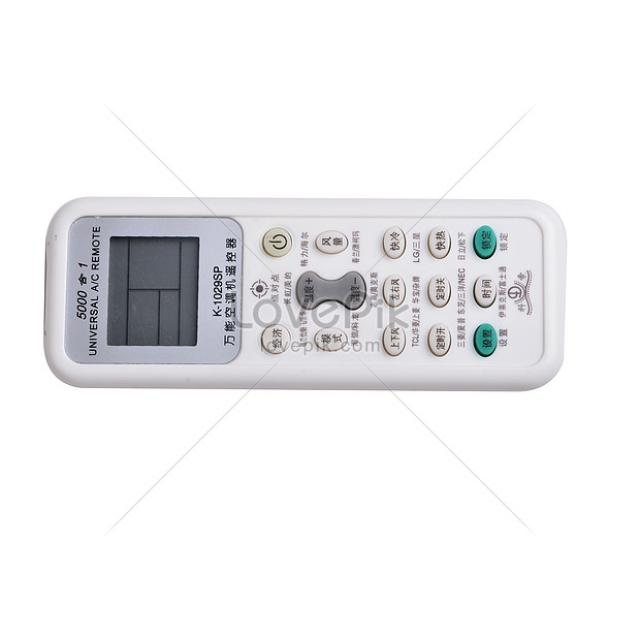remote: (55, 208, 552, 392)
